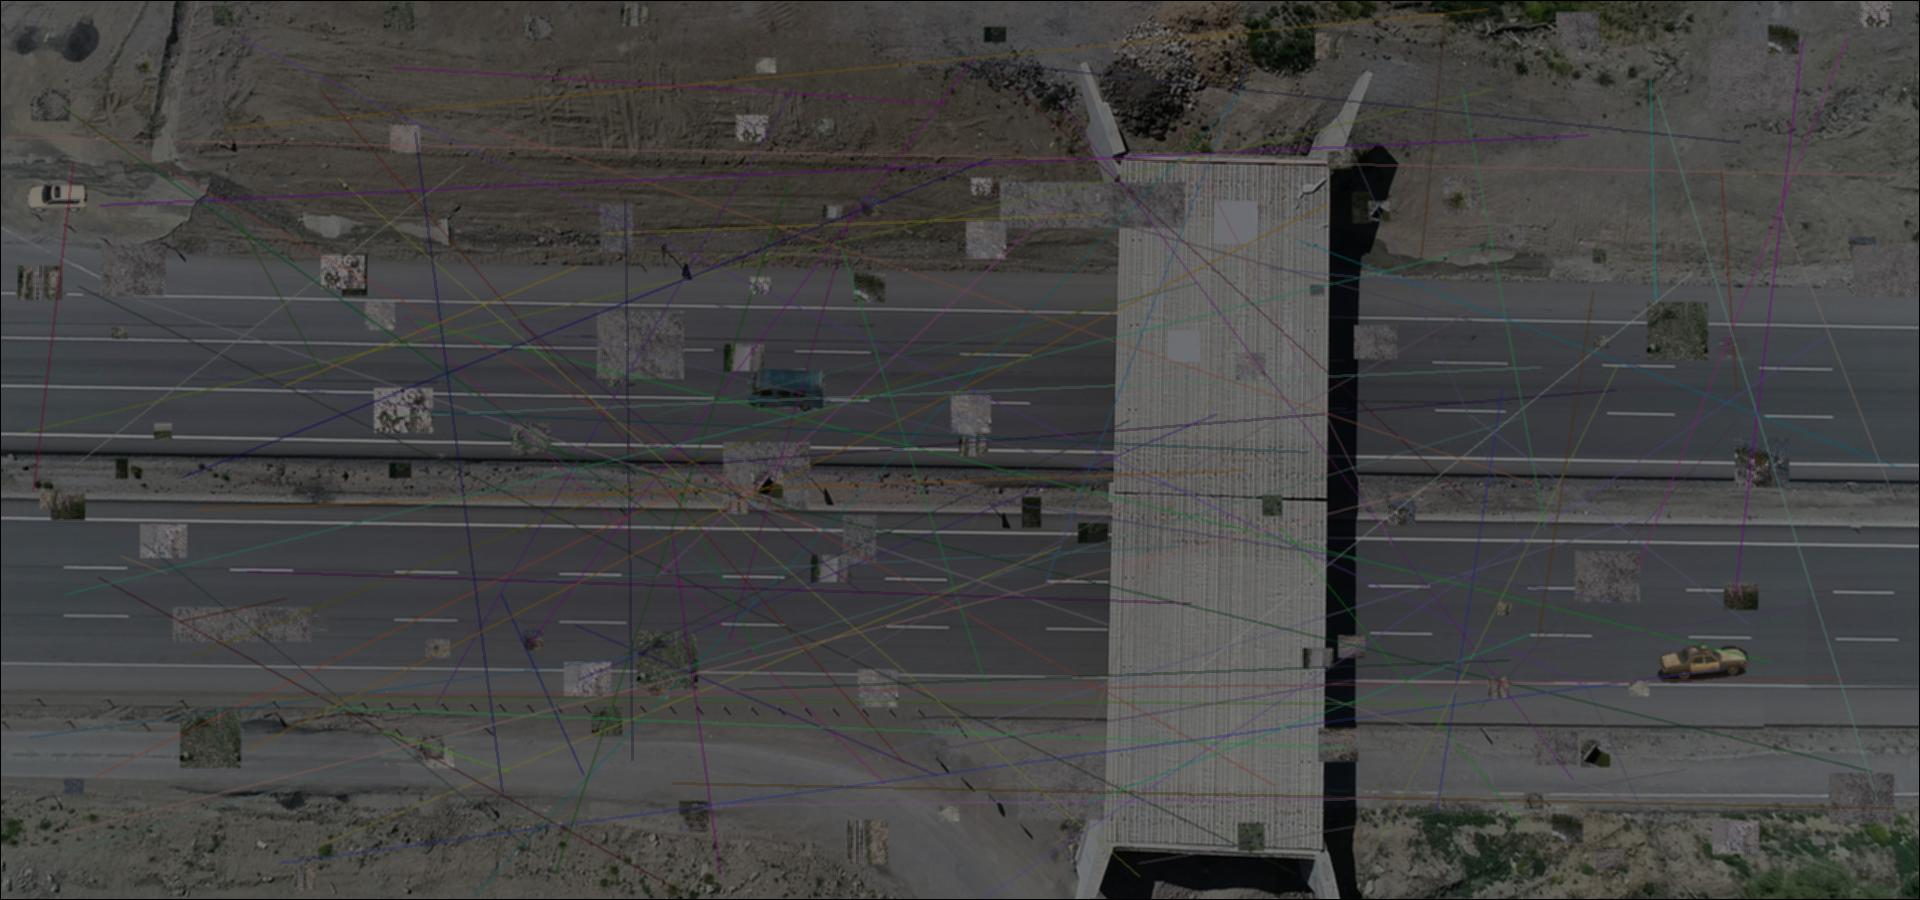arac: (1656, 643, 1749, 683), (747, 369, 825, 411), (24, 182, 91, 212)
